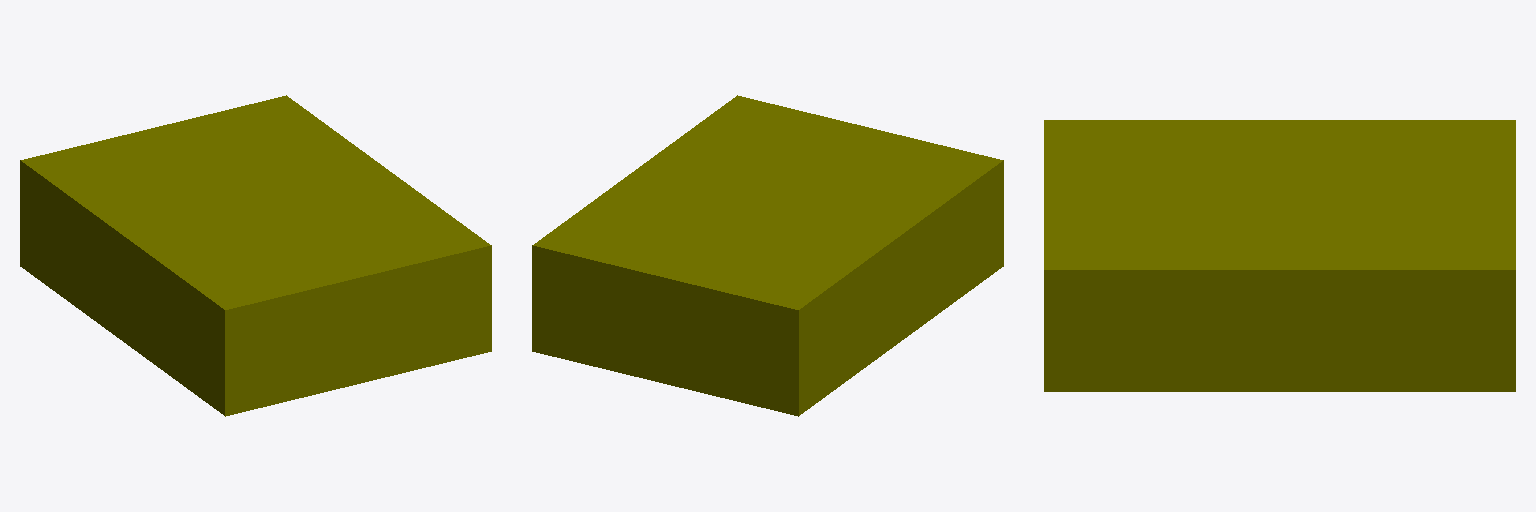
robot.urdf — cube:
<?xml version="1.0"?>
 <robot name="cube">
   <material name="golden">
     <color rgba="0.50196 0.50196 0 1"/>
   </material>
   <link name="base_link">
     <visual>
       <geometry>
         <box size="0.16 0.21343700408935547 0.061"/>
       </geometry>
       <material name="golden"/>
     </visual>
     <inertial>
       <mass value="0"/>
       <inertia ixx="1.0" ixy="0.0" ixz="0.0" iyy="1.0" iyz="0.0" izz="1.0"/>
     </inertial>
   </link>
 </robot>

--- Render facts (derived) ---
Views: 3 orthographic renders of the robot side by side, from view 1: azimuth 30°, elevation 25°; view 2: azimuth 150°, elevation 25°; view 3: azimuth 270°, elevation 25°.
Robot: cube — 1 links, 0 joints (none); root link base_link; default pose: every joint at zero.
Links seen in each view (by area): view 1: base_link; view 2: base_link; view 3: base_link.
Boxes of the visible links, bbox=[...] form: base_link: bbox=[20, 95, 491, 416]; base_link: bbox=[532, 95, 1003, 416]; base_link: bbox=[1044, 120, 1515, 391].
Size in the robot's own frame: 0.16 by 0.2134 by 0.061 metres.
Geometry: primitives only (box / cylinder / sphere), no mesh files.